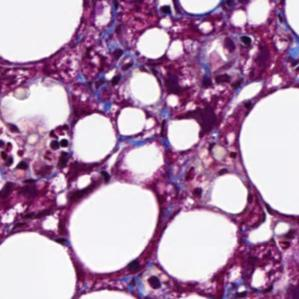inflammation: (2, 120, 70, 178)
